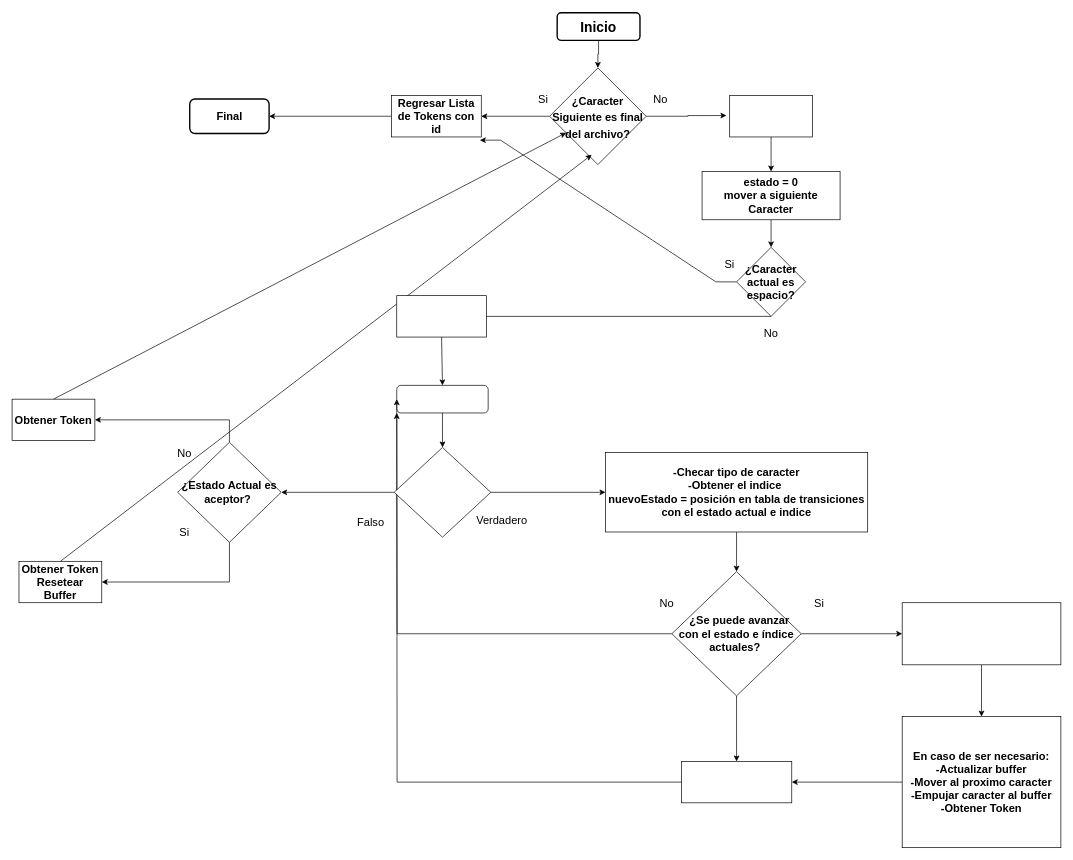
Some shapes in this 1073 by 860 pixel diagram are drawn without their labels. Each missing label, with the centre of its shape:
"Agregar caracter al buffer" belongs at (441,316).
"Comparar el caracter y estado actual con el caracter y estado siguientes" belongs at (981,633).
"estado = nuevoEstado" belongs at (736,782).
"Recorrer AFD" belongs at (770,116).
"While" belongs at (442,399).
"¿El tipo de estado es aceptor && error?" belongs at (442,492).
